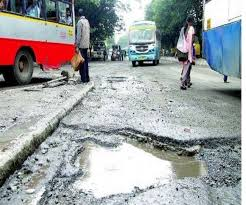potholes: (80, 122, 220, 194)
